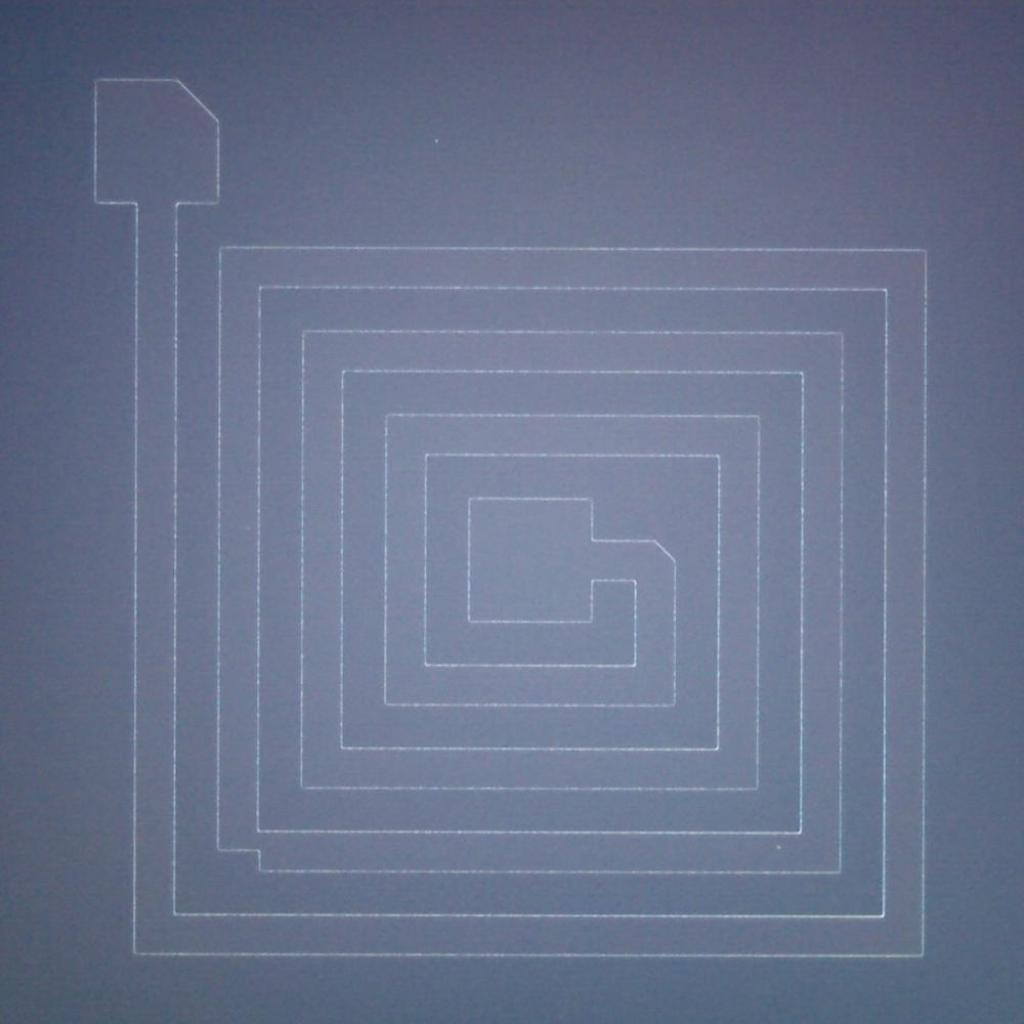edge circuit: (173, 63, 231, 128), (207, 837, 278, 882), (646, 526, 690, 574)
